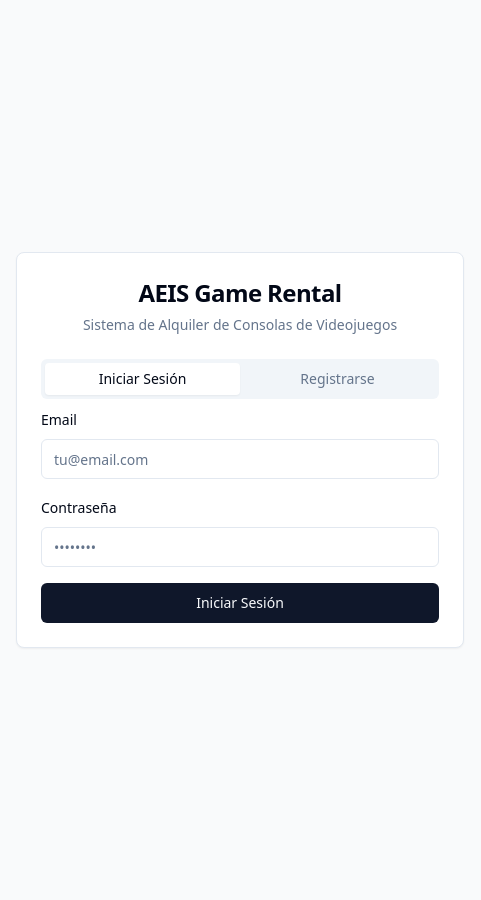
Test case: Auth Page › handles sign up form submission
# Cambiar a la pestaña de registro
Click the tab "Registrarse": [338, 379] box 240,363 -> 435,395
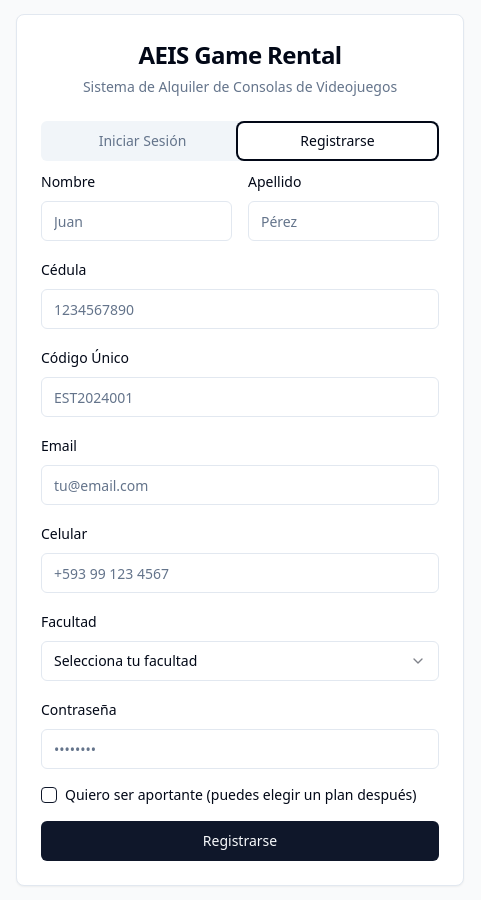
Result: the field labelled "Nombre" is shown at 41,201 -> 232,241
